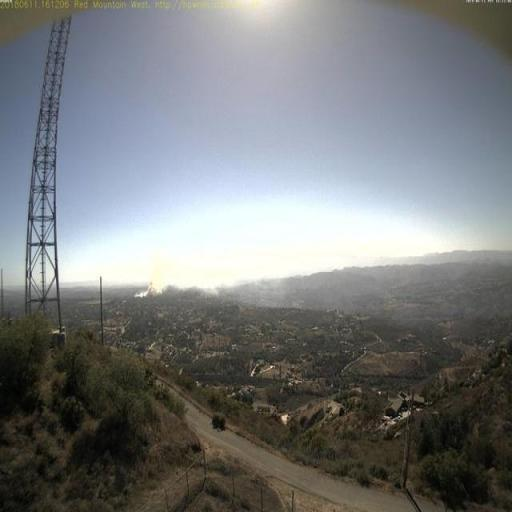smoke: (132, 266, 286, 300)
